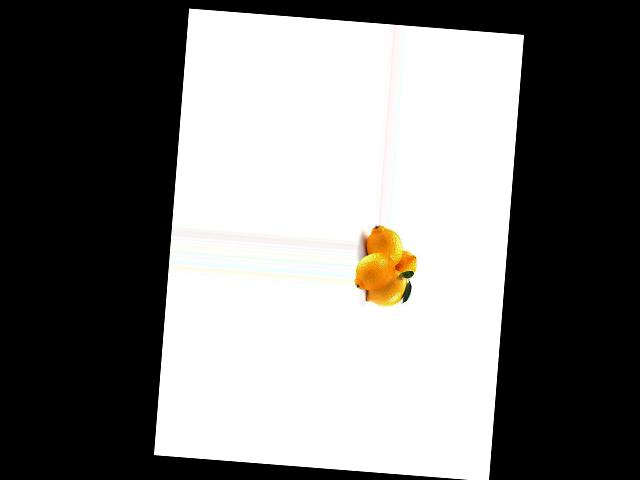lemon: (368, 222, 405, 268)
